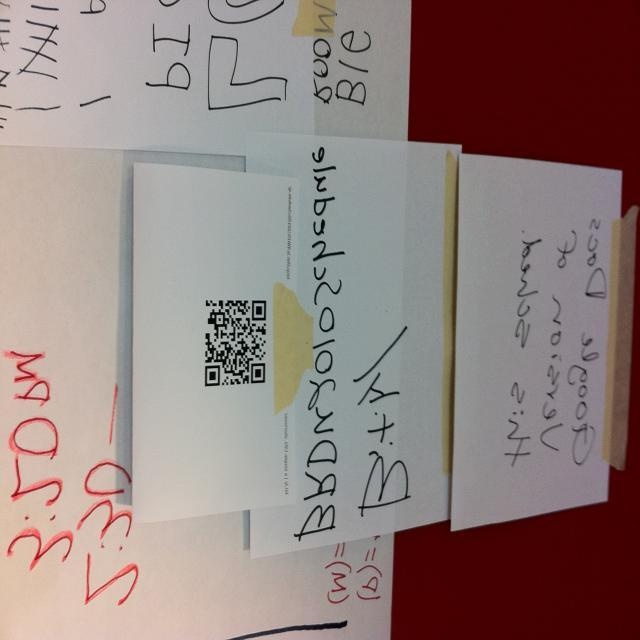qr-code: (205, 300, 266, 386)
